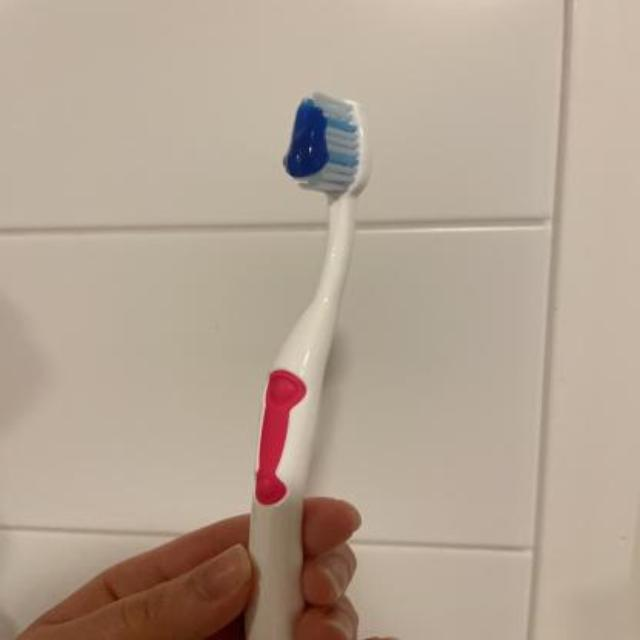toothbrush: (242, 78, 382, 640)
